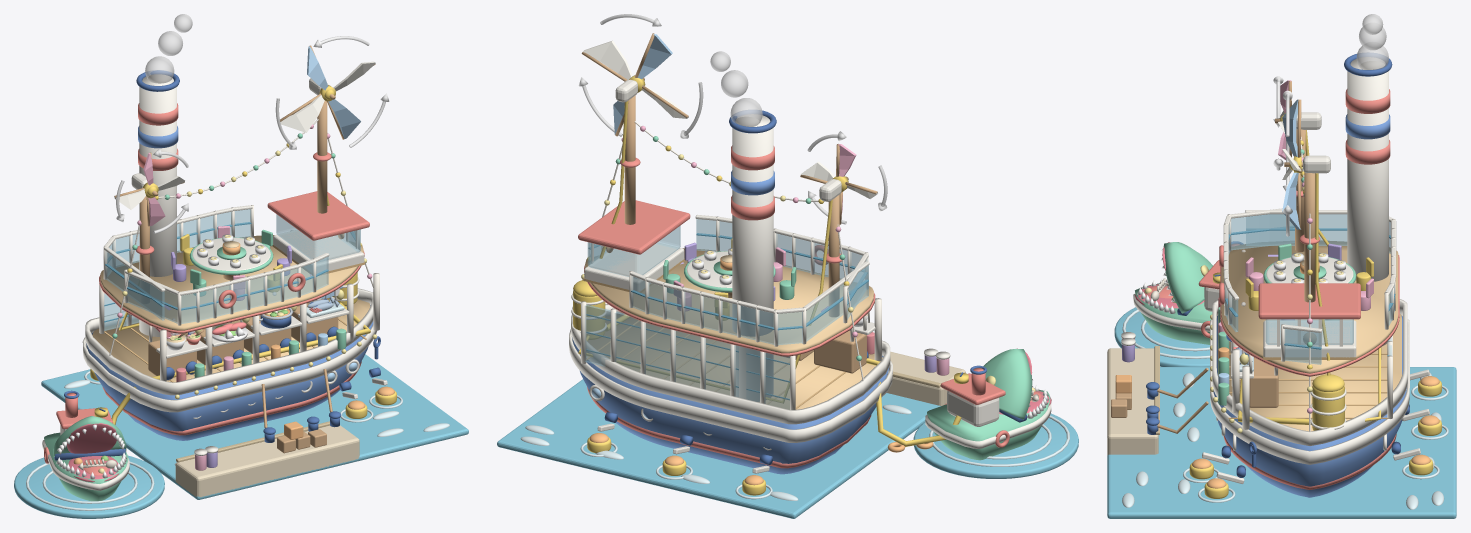
The picture shows the model from 3 angles, left to right: view 1: azimuth 30°, elevation 25°; view 2: azimuth 150°, elevation 25°; view 3: azimuth 270°, elevation 25°; orthographic projection. The views are drawn at different scales.
Parts seen in each view (by area): view 1: 海の台, 船体, 2階の甲板, 岸壁, へさきのかべ, ゴミ船の海, えんとつ, 白いおび, 船橋の屋根, 1階の床, 船橋のこし, 船橋の発電まど (+22 smaller); view 2: 海の台, 船体, えんとつ, 2階の甲板, 1階の床, へさきのかべ, 白いおび, ゴミ船の海, 船橋の屋根, 船橋のこし, パクッと号の船体, パクッと号の上あご (+26 smaller); view 3: 海の台, えんとつ, 2階の甲板, 船体, 1階の床, 岸壁, へさきのかべ, 船橋の屋根, 白いおび, 船橋のこし, パクッと号の上あご, 甲板の発電まど28 (+28 smaller).
Boxes of the visible parts, x1,y1,x2,y2 form: 海の台: [41, 354, 468, 499]; 船体: [86, 305, 373, 440]; 2階の甲板: [100, 235, 363, 330]; 岸壁: [175, 425, 359, 497]; へさきのかべ: [85, 288, 373, 395]; ゴミ船の海: [14, 455, 164, 518]; えんとつ: [139, 74, 176, 336]; 白いおび: [82, 324, 376, 412]; 船橋の屋根: [267, 191, 369, 240]; 1階の床: [92, 298, 370, 382]; 船橋のこし: [273, 230, 364, 273]; 船橋の発電まど: [276, 214, 360, 261]; 海の台: [497, 379, 940, 518]; 船体: [572, 337, 889, 474]; えんとつ: [732, 114, 773, 401]; 2階の甲板: [585, 248, 873, 353]; 1階の床: [588, 314, 882, 409]; へさきのかべ: [571, 304, 890, 424]; 白いおび: [569, 329, 892, 442]; ゴミ船の海: [913, 413, 1078, 478]; 船橋の屋根: [578, 200, 690, 254]; 船橋のこし: [584, 242, 684, 291]; パクッと号の船体: [927, 389, 1050, 460]; パクッと号の上あご: [983, 349, 1032, 419]; 海の台: [1107, 367, 1456, 518]; えんとつ: [1347, 57, 1388, 345]; 2階の甲板: [1221, 240, 1398, 373]; 船体: [1213, 315, 1406, 497]; 1階の床: [1218, 314, 1401, 431]; 岸壁: [1107, 348, 1158, 455]; へさきのかべ: [1212, 299, 1407, 445]; 船橋の屋根: [1258, 283, 1360, 319]; 白いおび: [1210, 319, 1409, 464]; 船橋のこし: [1263, 320, 1356, 357]; パクッと号の上あご: [1163, 242, 1212, 313]; 甲板の発電まど28: [1246, 214, 1347, 245].
Bounding box in the file's own units: 223 × 196 × 150.
